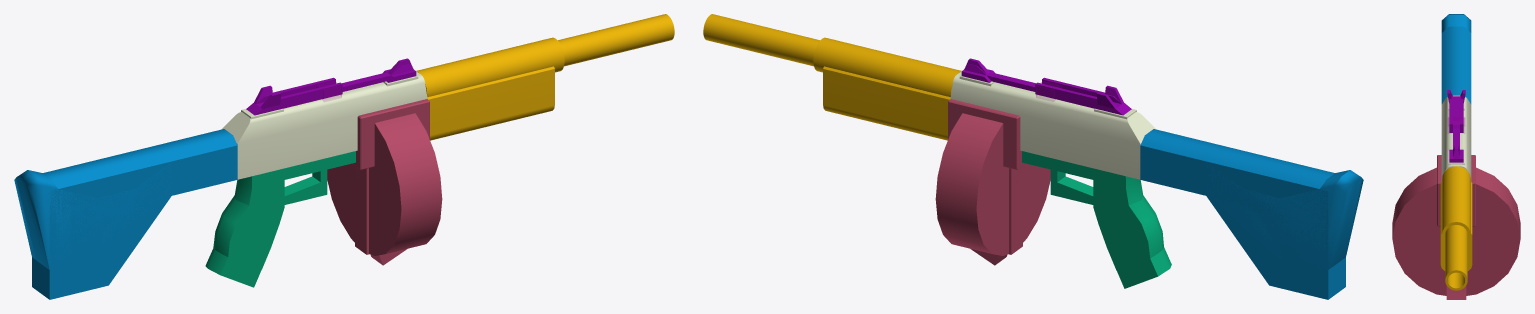
File: gun-modular.fbx
3 views of the same model, side by side, from view 1: azimuth 30°, elevation 25°; view 2: azimuth 150°, elevation 25°; view 3: azimuth 270°, elevation 25° (orthographic). The views are drawn at different scales.
Parts seen in each view (by area): view 1: stock_1, drummag_1, barrel_1, core, stock_3, barrel_2, grip_1, stock_2, grip_2, mag_2, barrel_3, grip_3 (+3 smaller); view 2: stock_1, drummag_1, barrel_1, core, stock_3, grip_1, barrel_2, stock_2, mag_2, grip_2, sights_3, grip_3 (+3 smaller); view 3: drummag_1, barrel_1, stock_1, core, mag_2, sights_3, stock_3, barrel_3, stock_2, mag_1, sights_1, sights_2 (+2 smaller).
Part boxes in pixels (x1,y1,x2,y2): stock_1: (32,129,237,299); drummag_1: (327,99,442,255); barrel_1: (416,14,674,140); core: (221,70,427,179); stock_3: (14,163,171,272); barrel_2: (427,37,582,140); grip_1: (234,151,355,268); stock_2: (58,145,237,287); grip_2: (205,170,326,287); mag_2: (352,99,429,254); barrel_3: (559,14,674,62); grip_3: (213,195,283,256); stock_1: (1140,129,1345,299); drummag_1: (935,101,1050,255); barrel_1: (703,14,961,140); core: (950,70,1156,179); stock_3: (1206,163,1363,272); grip_1: (1022,151,1143,270); barrel_2: (796,36,949,140); stock_2: (1141,145,1320,286); mag_2: (948,99,1025,254); grip_2: (1055,171,1171,288); sights_3: (987,72,1121,114); grip_3: (1094,195,1163,270); drummag_1: (1392,155,1520,295); barrel_1: (1440,166,1472,290); stock_1: (1441,26,1471,104); core: (1441,95,1471,181); mag_2: (1437,155,1475,226); sights_3: (1449,95,1463,148); stock_3: (1441,14,1471,32); barrel_3: (1445,225,1467,277); stock_2: (1441,34,1470,76); mag_1: (1446,286,1466,299); sights_1: (1449,95,1463,162); sights_2: (1447,90,1465,162).
Bounding box in the file's own units: 19.65 × 5.7 × 4.05.
